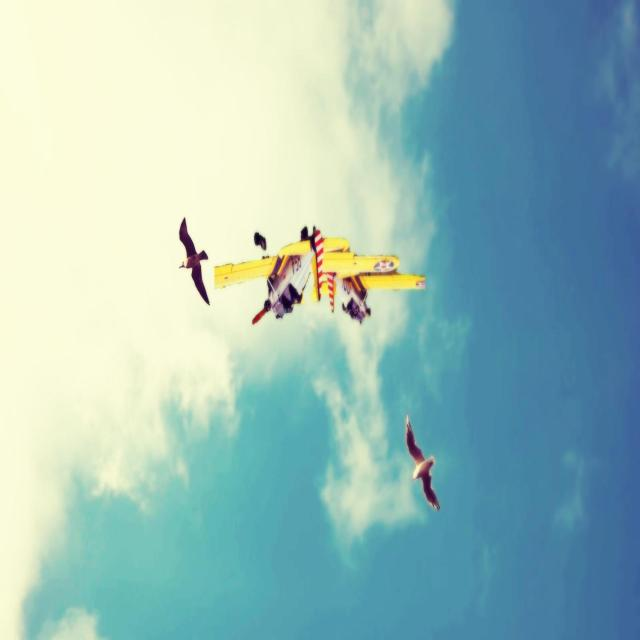airplane: (214, 224, 426, 325)
